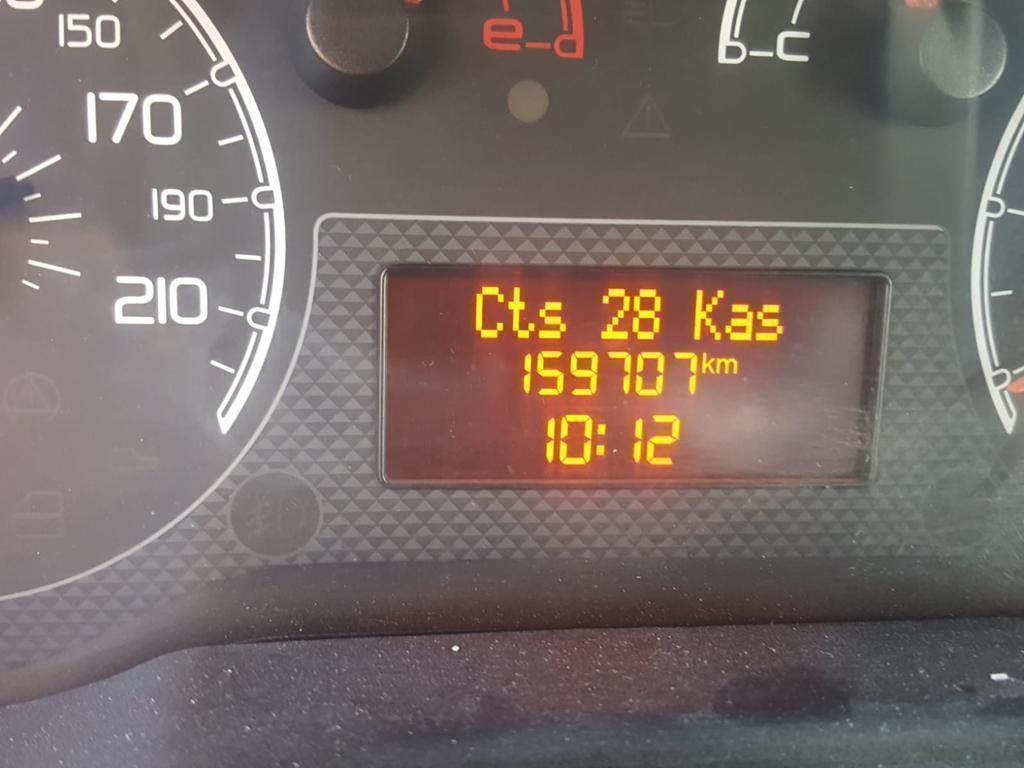0: (558, 413, 593, 465), (634, 350, 665, 397)
1: (543, 416, 555, 464), (632, 417, 643, 464), (522, 352, 532, 394)
2: (645, 414, 679, 465), (599, 287, 630, 340)
5: (535, 350, 565, 396)
7: (606, 351, 632, 395), (672, 351, 698, 395)
8: (631, 288, 661, 340)
9: (568, 350, 598, 395)
X: (692, 288, 723, 341), (474, 285, 504, 339), (507, 286, 535, 339), (536, 300, 566, 339), (724, 302, 753, 341), (754, 304, 783, 341), (594, 422, 607, 457), (715, 356, 738, 375), (700, 352, 715, 374)
odometer: (375, 259, 894, 490)
